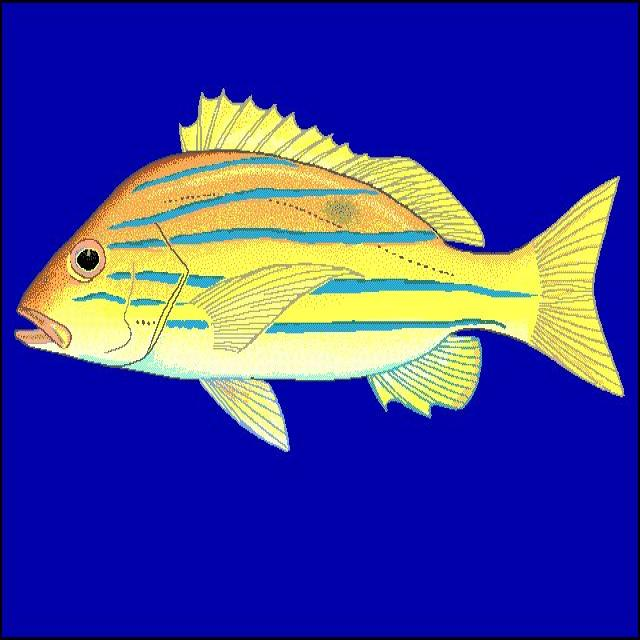ikan: (14, 88, 625, 452)
